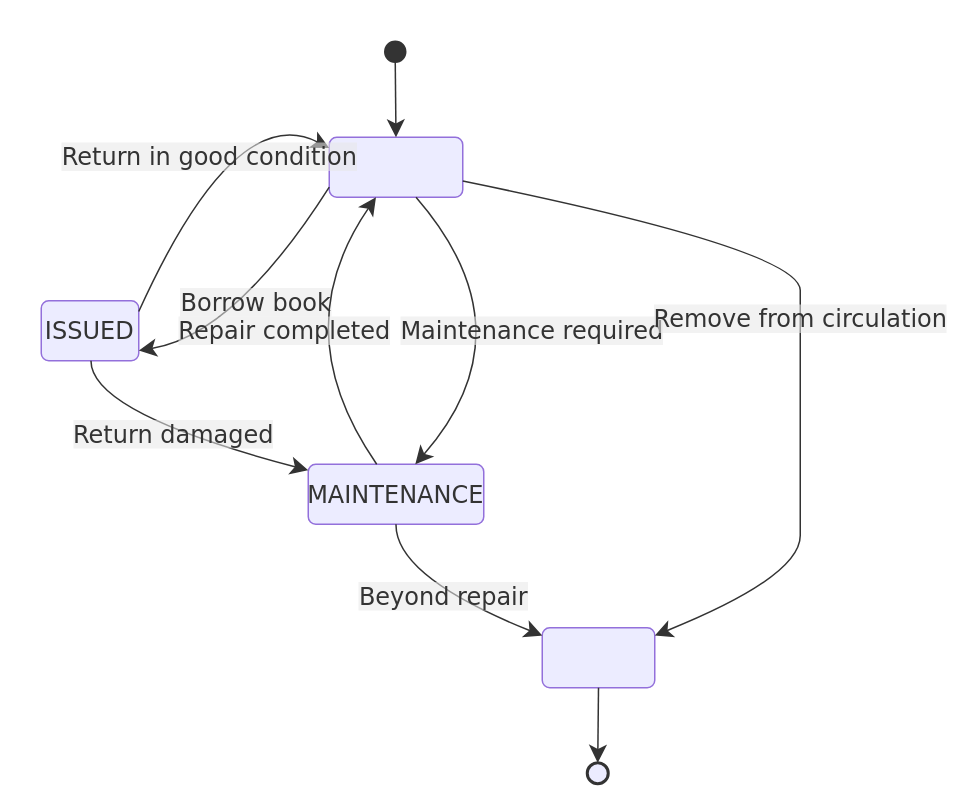
Some shapes in this 972 by 810 pixel diagram are drawn without their labels. Here are the shapes that lost their labels. From the top down, the centre of each, then its label:
(395,166): AVAILABLE
(598,657): RETIRED
